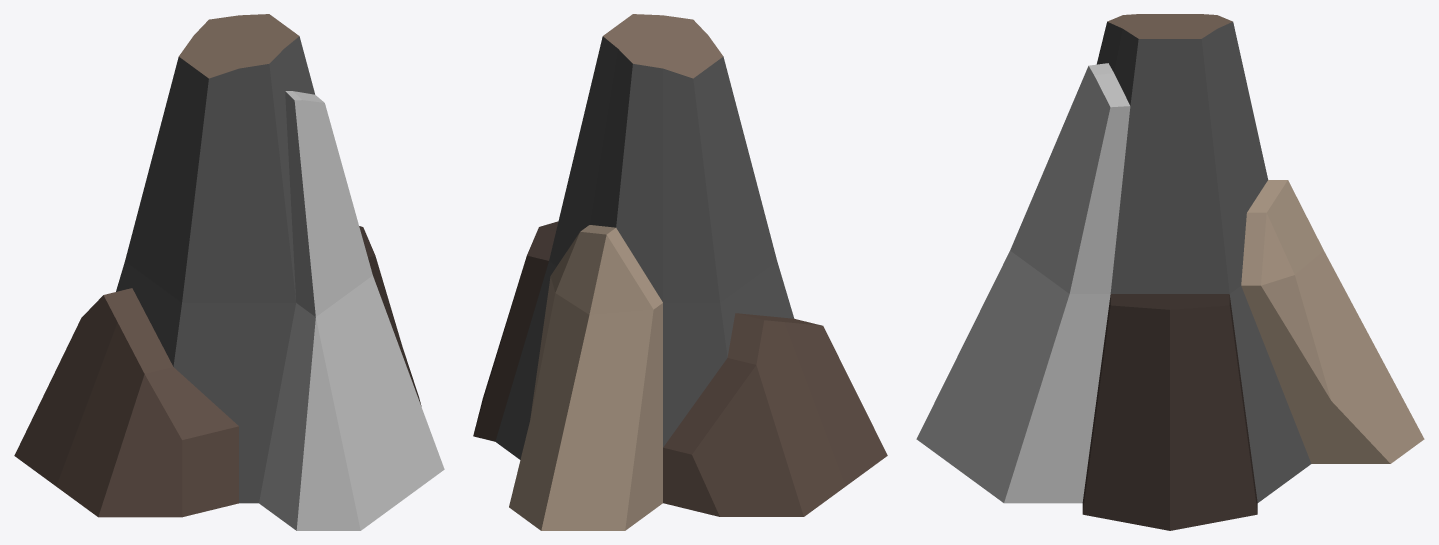
Rendered from 01_mountain.fbx.
3 views of the same model, side by side, from view 1: azimuth 30°, elevation 25°; view 2: azimuth 150°, elevation 25°; view 3: azimuth 270°, elevation 25° (orthographic). The views are drawn at different scales.
Parts seen in each view (by area): view 1: Circle.037; view 2: Circle.037; view 3: Circle.037.
Boxes of the visible parts, x1,y1,x2,y2 form: Circle.037: [14, 14, 444, 530]; Circle.037: [473, 14, 887, 530]; Circle.037: [916, 14, 1424, 530].
Size of the model in its own units: 338 by 361 by 392.
